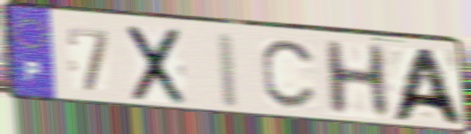7: (64, 25, 112, 93)
A: (385, 46, 469, 128)
C: (258, 38, 320, 113)
H: (319, 38, 394, 118)
I: (214, 30, 243, 111)
X: (125, 23, 188, 107)
